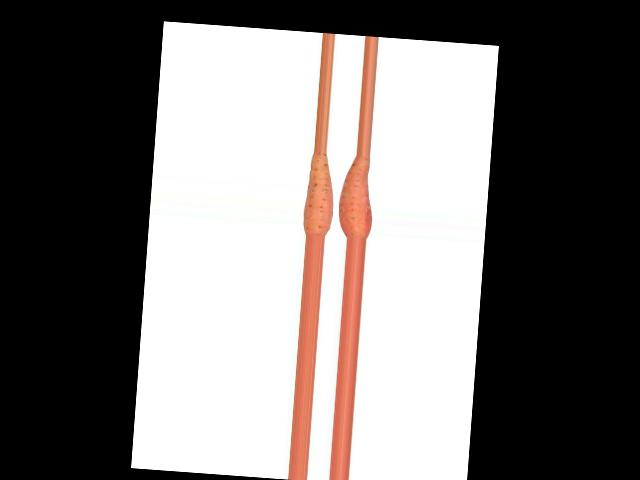sweet_potato: (303, 154, 337, 237)
